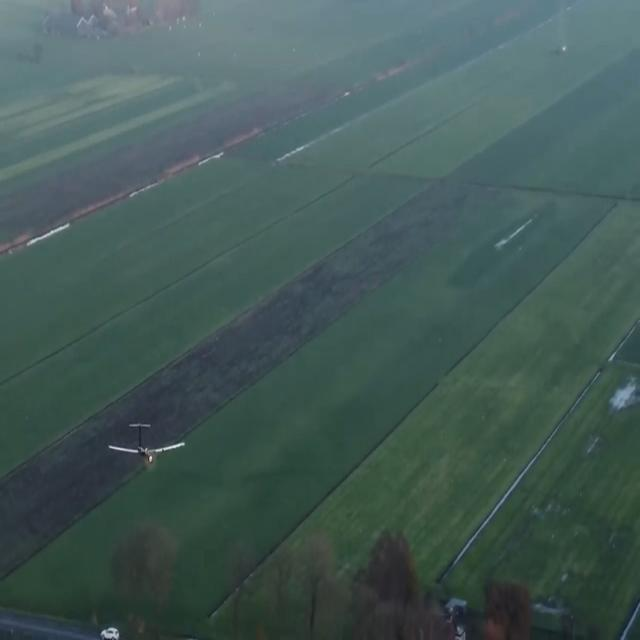iha: (142, 423, 157, 468)
